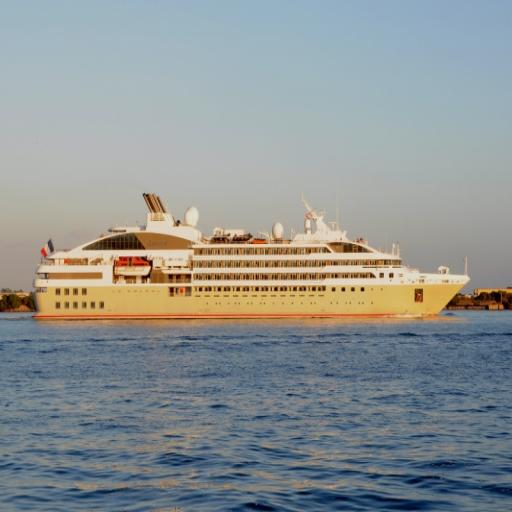cruises: (31, 191, 485, 327)
